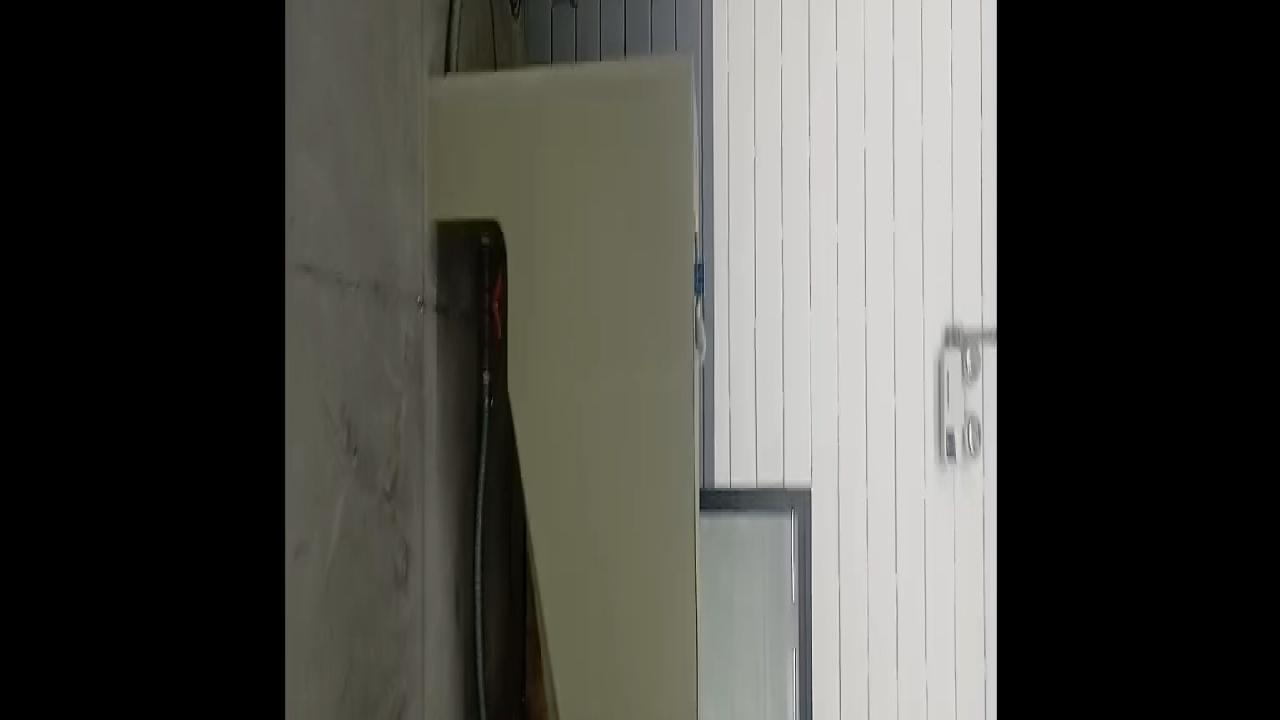Cube: (694, 262, 704, 298)
